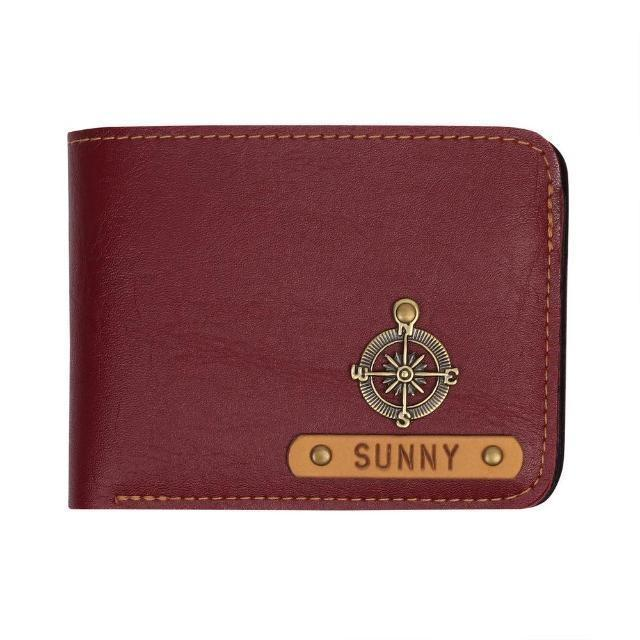Wallet: (69, 127, 567, 510)
